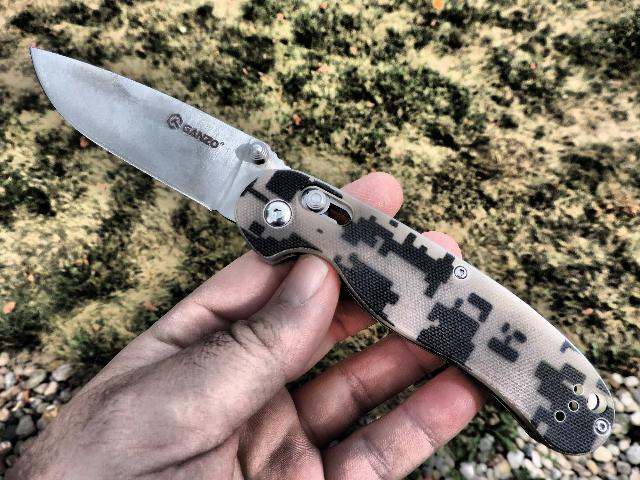knife: (21, 30, 418, 340)
